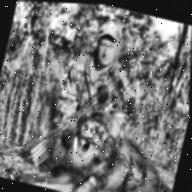boar: (46, 99, 186, 192)
